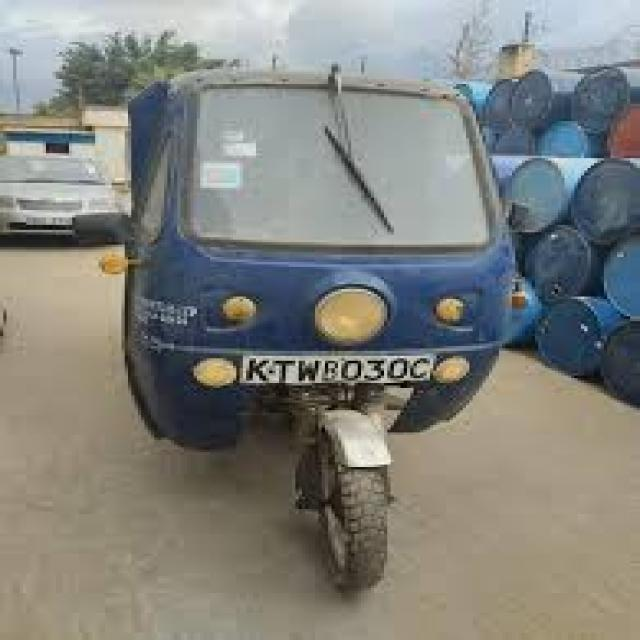tuktuk: (56, 11, 584, 640)
